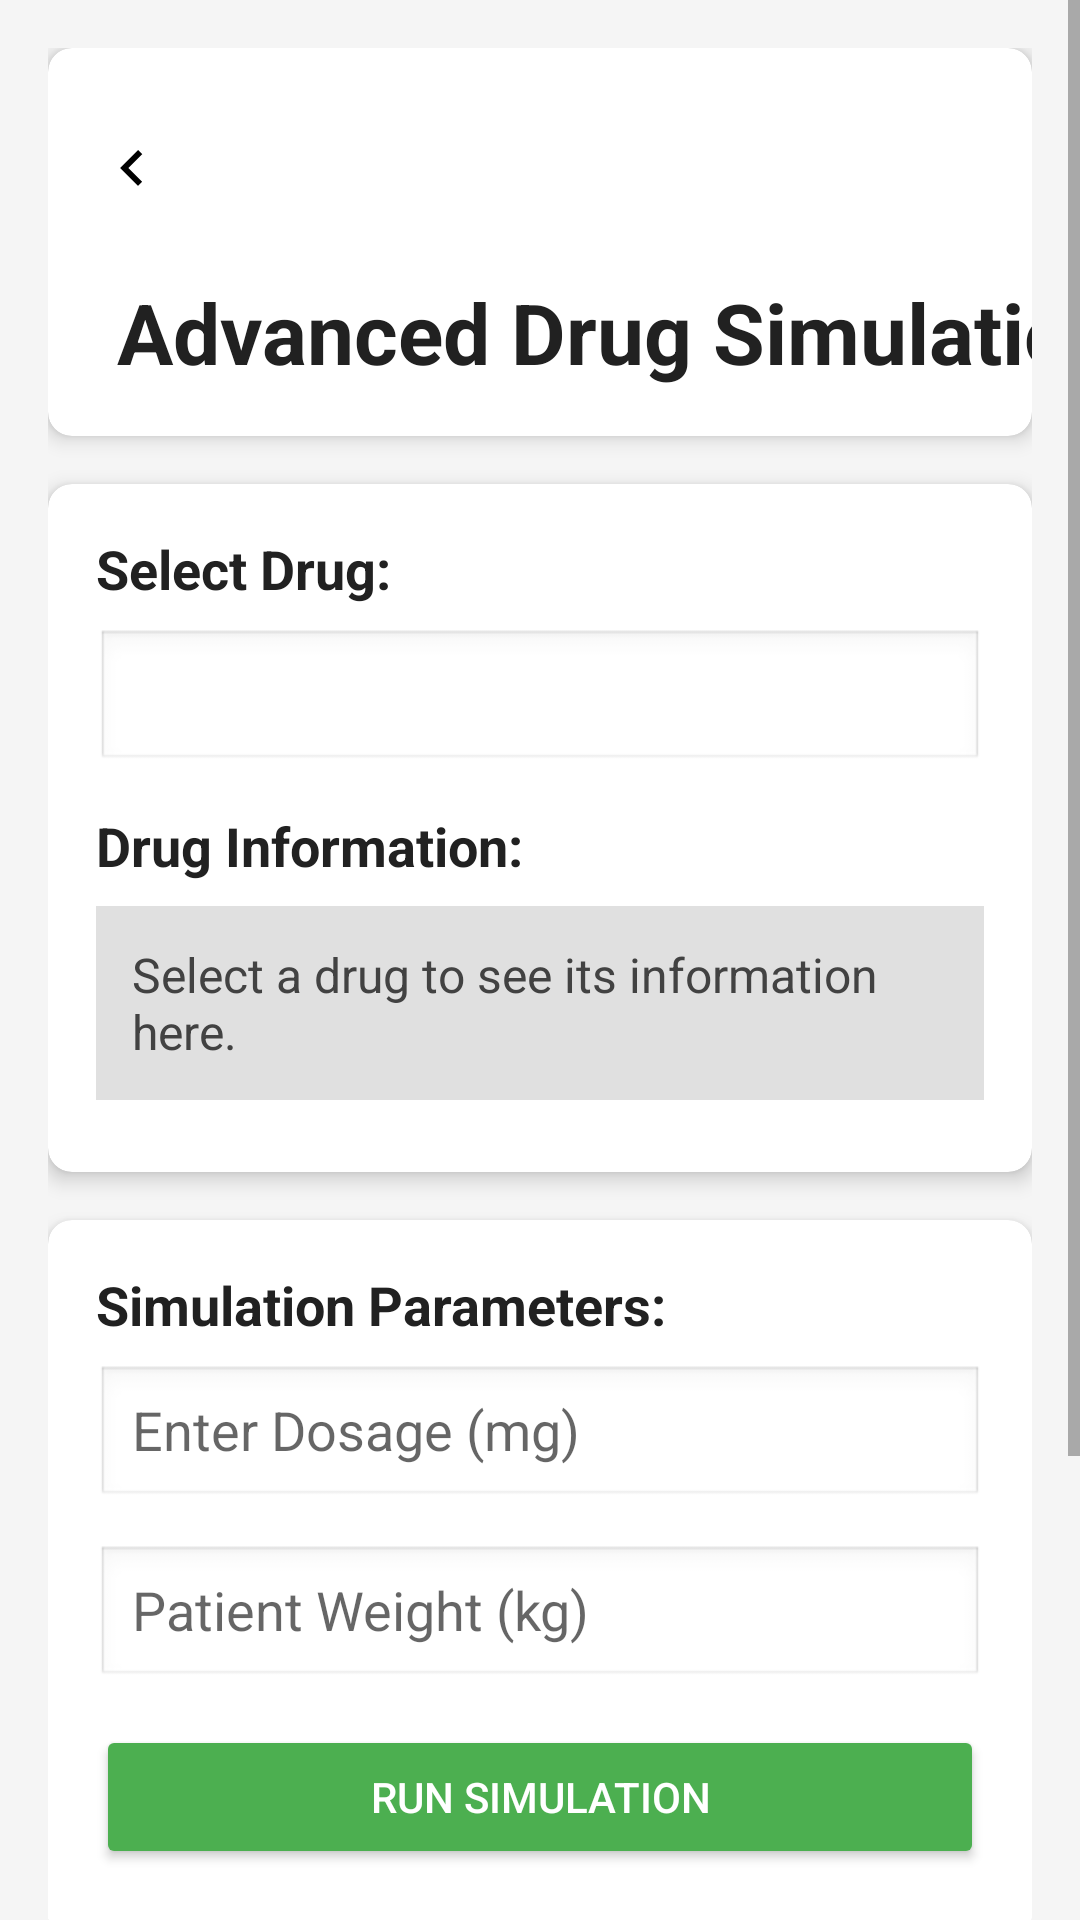

Point at icon controls on the screen. Image size 1080x1920, points as (x=x, y=y).
Back: (x=131, y=168)
